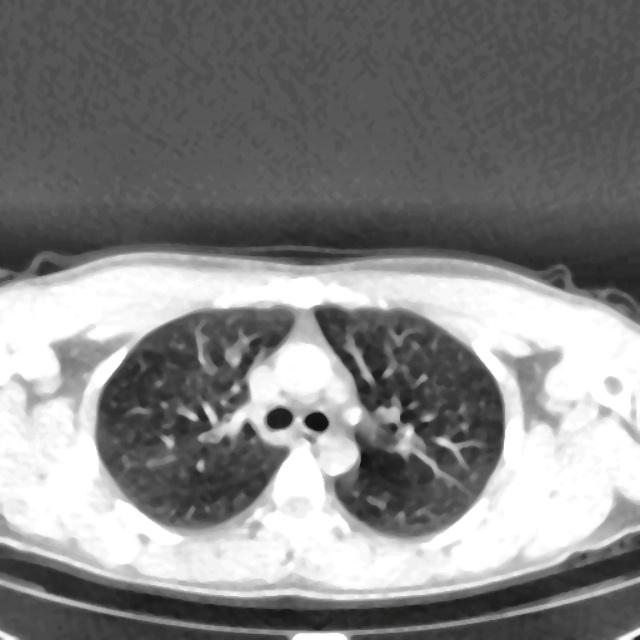covid: (0, 243, 639, 607)
